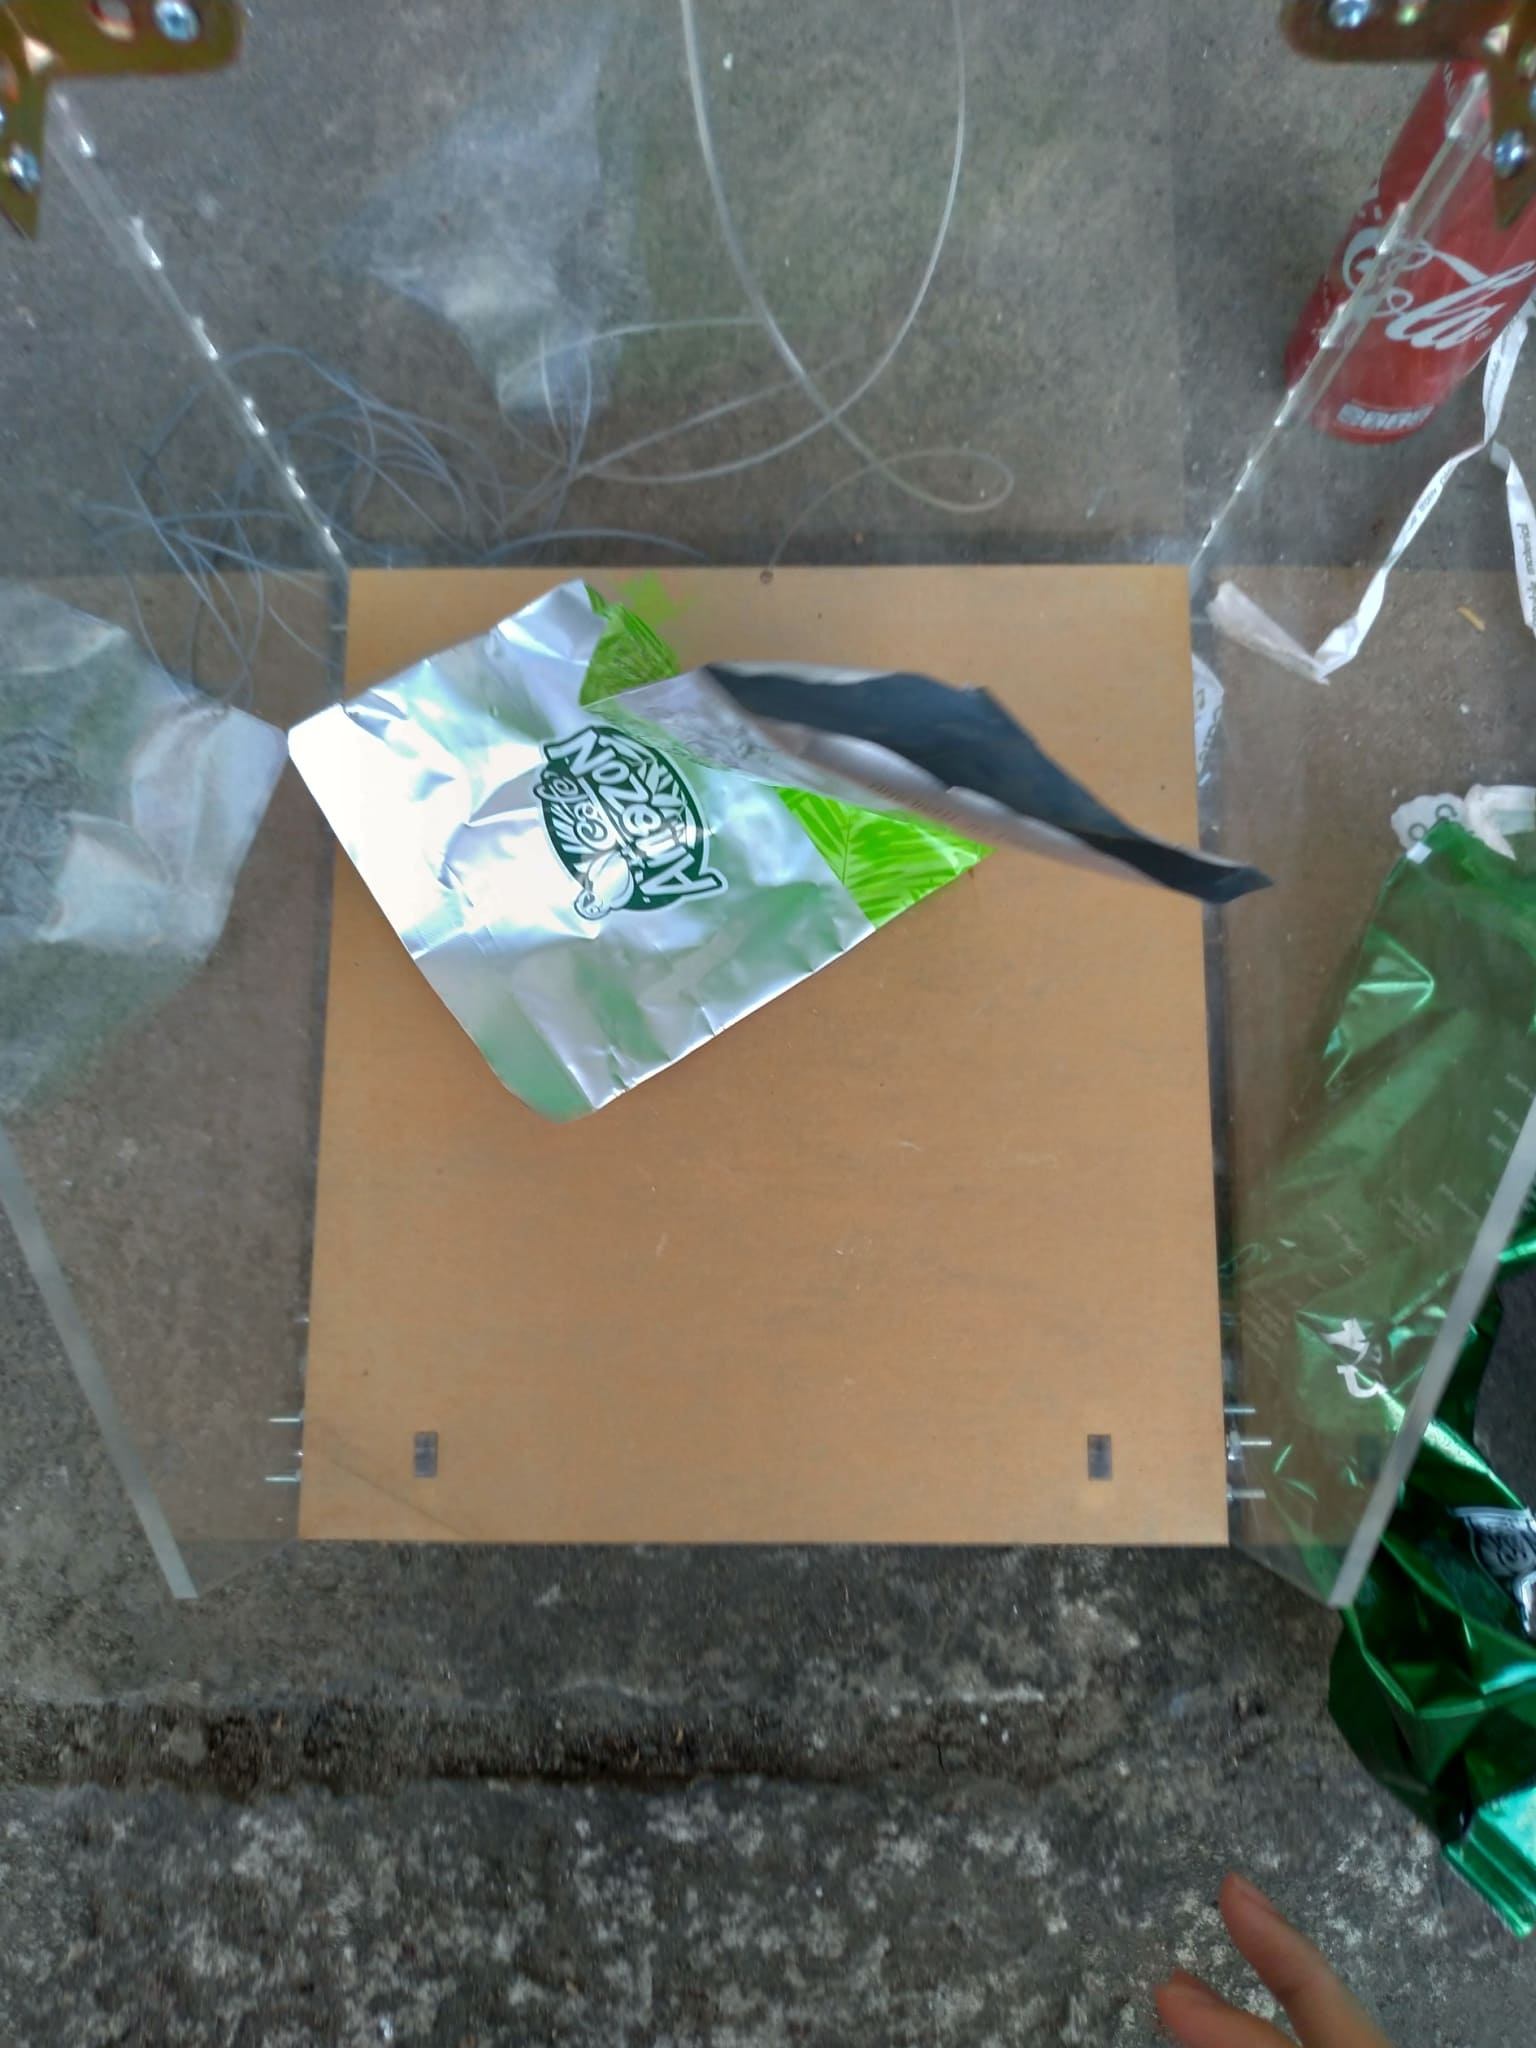AlCan: (1283, 85, 1536, 434)
Others: (269, 572, 1271, 1095), (1210, 839, 1533, 1914)
